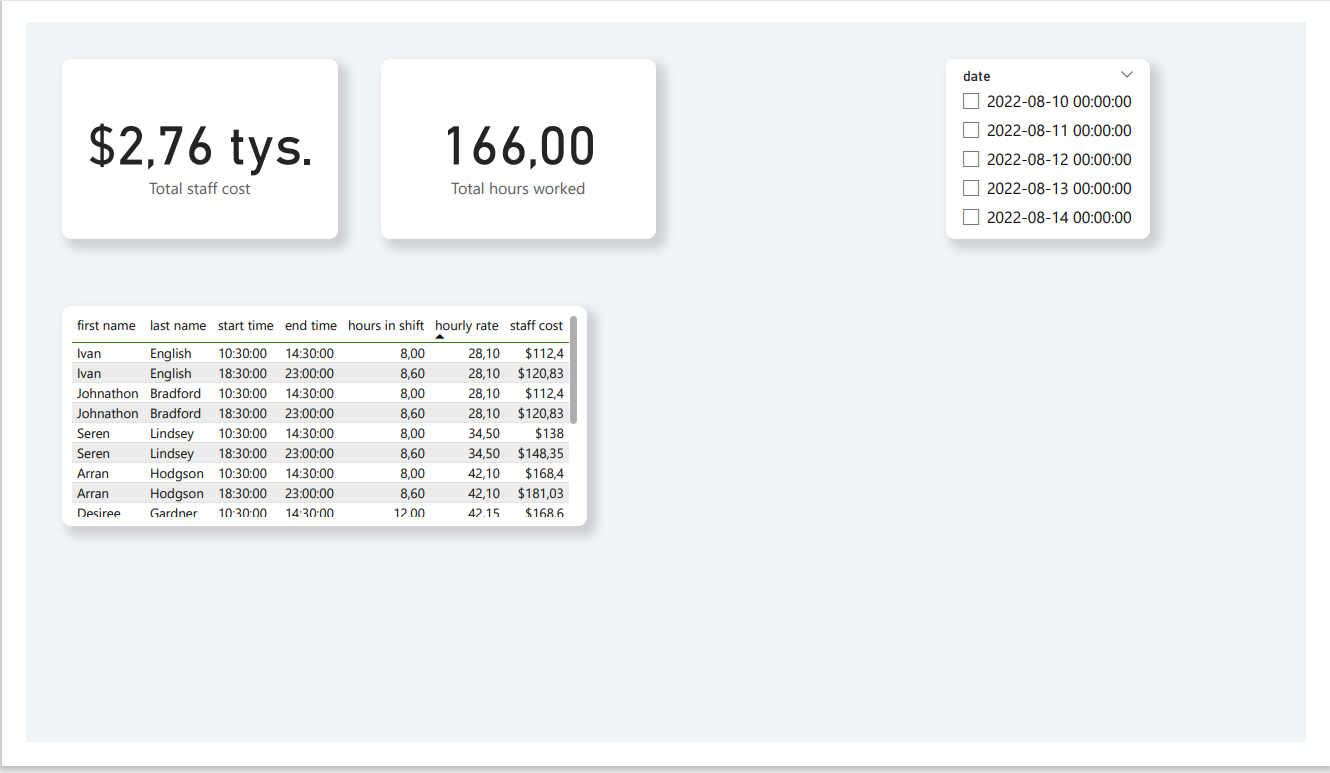

Layout of this report page (visuals, bound fields, positions):
{"tool":"powerbi","page":{"name":"Dashboard3","canvas":[1280,720],"ordinal":2},"visuals":[{"type":"card","fields":{"Values":["Sum(DASHBOARD3.staff_cost)"]},"box":[36.4,37.3,275.5,180],"z":0},{"type":"card","fields":{"Values":["Sum(DASHBOARD3.hours_in_shift)"]},"box":[354.5,37.3,275.5,180],"z":1000},{"type":"tableEx","fields":{"Values":["DASHBOARD3.first_name","DASHBOARD3.last_name","DASHBOARD3.start_time","DASHBOARD3.end_time","Sum(DASHBOARD3.hours_in_shift)","Sum(DASHBOARD3.hourly_rate)","Sum(DASHBOARD3.staff_cost)"]},"box":[36.4,283.6,525,220],"z":2000},{"type":"slicer","fields":{"Values":["DASHBOARD3.date"]},"box":[920,37.3,203.6,180],"z":3000}]}

Visuals, with their boxes on the page's 1280x720 design canvas (x1, y1, x2, y2). These are canvas units, not pixel positions in the 1330x773 screenshot, which may show the page scaled, cropped or inside an application window:
card - Sum(DASHBOARD3.staff_cost): bbox(36, 37, 312, 217)
card - Sum(DASHBOARD3.hours_in_shift): bbox(354, 37, 630, 217)
tableEx - DASHBOARD3.first_name x DASHBOARD3.last_name: bbox(36, 284, 561, 504)
slicer - DASHBOARD3.date: bbox(920, 37, 1124, 217)
